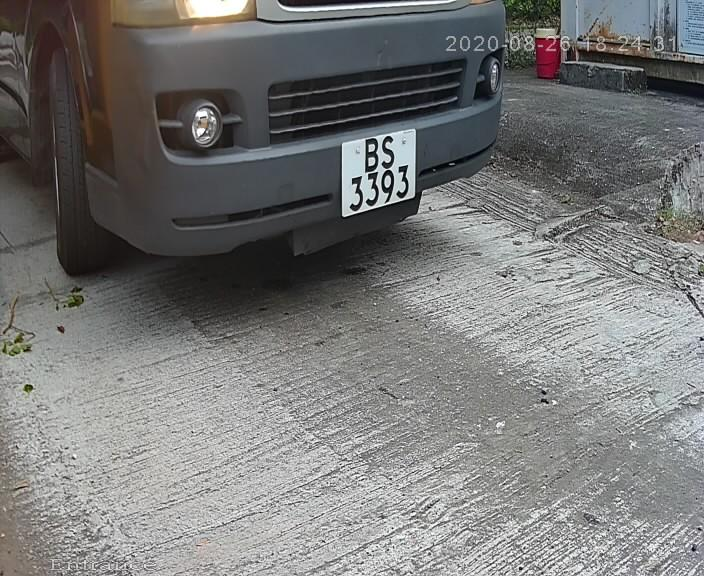License Plate: (331, 119, 428, 224)
